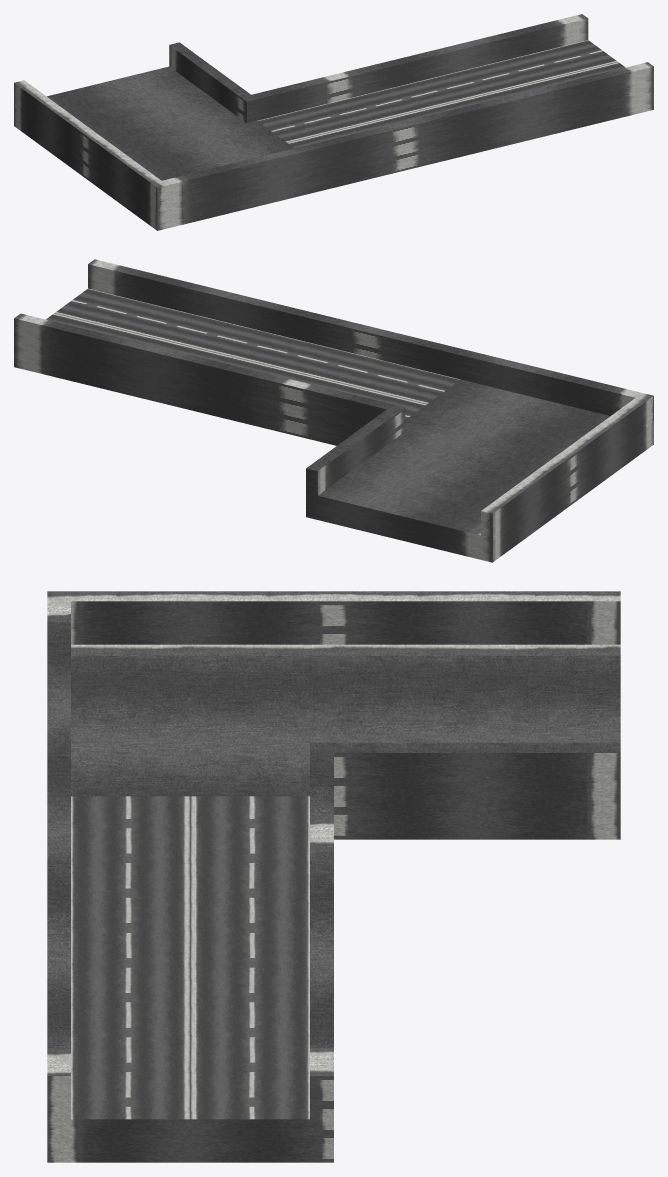
File: M-Zig end.obj
The picture shows the model from 3 angles, top to bottom: view 1: azimuth 30°, elevation 25°; view 2: azimuth 150°, elevation 25°; view 3: azimuth 270°, elevation 25°; orthographic projection. The views are drawn at different scales.
Parts seen in each view (by area): view 1: polySurface8; view 2: polySurface8; view 3: polySurface8.
Boxes of the visible parts, x1,y1,x2,y2 form: polySurface8: (14,14,653,230); polySurface8: (14,259,653,562); polySurface8: (47,591,620,1162).
Size of the model in its own units: 1890 by 157 by 945.
Materials: 1 (1 with a texture image).
